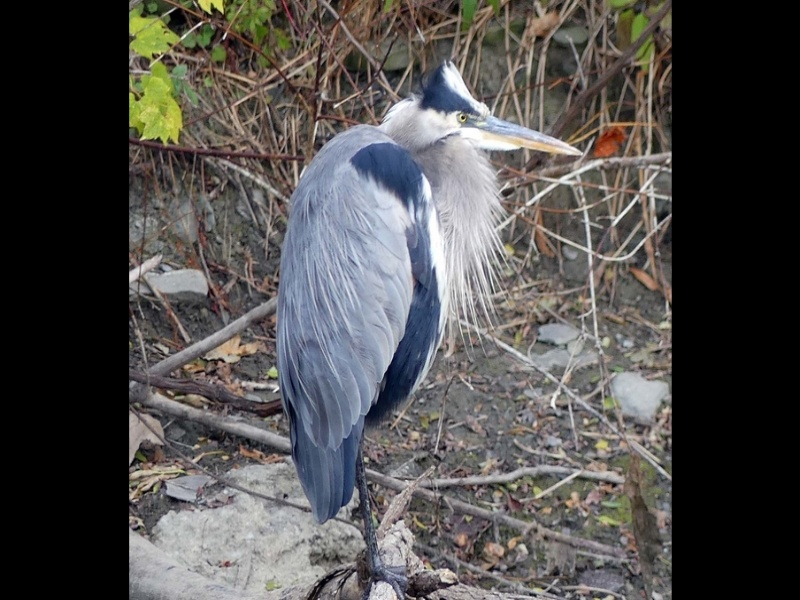heron: (269, 53, 590, 580)
